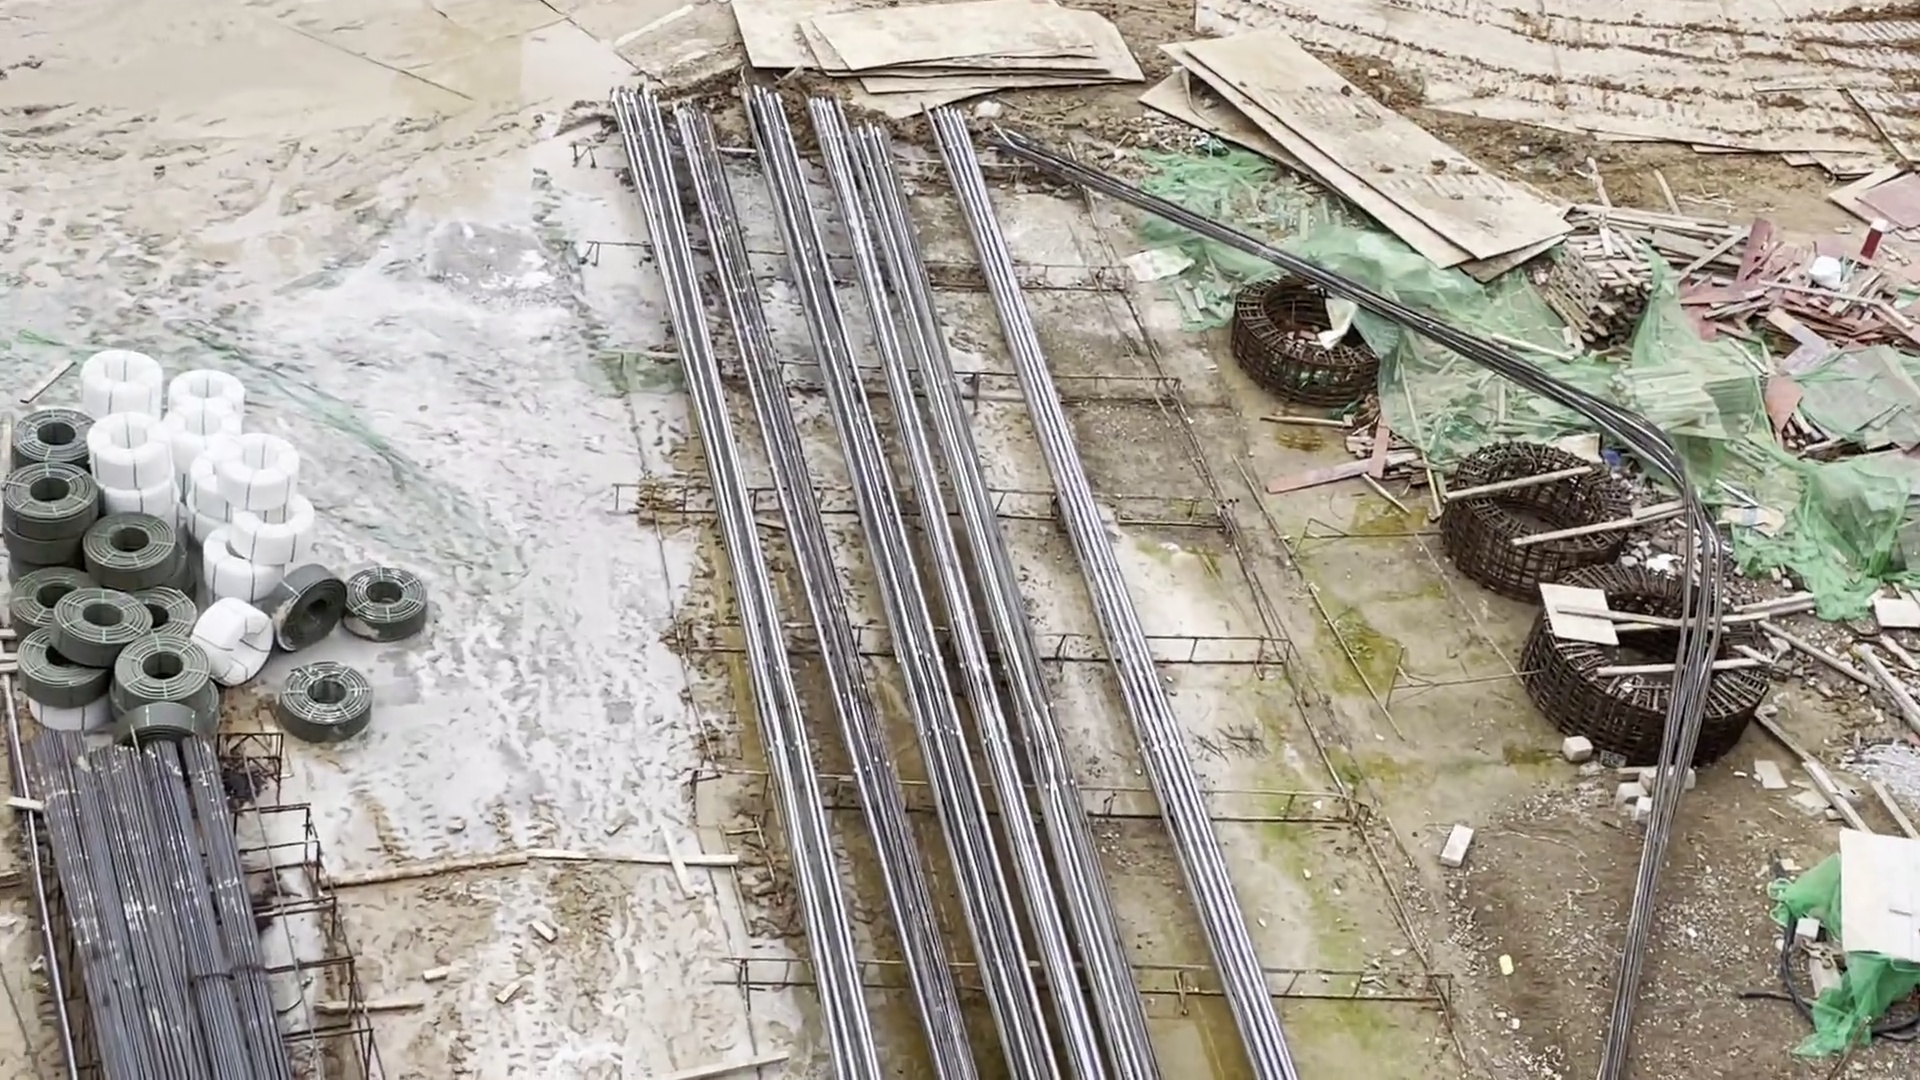board: (1689, 233, 1825, 347)
rebar: (636, 98, 1154, 1080), (29, 737, 305, 1080)
